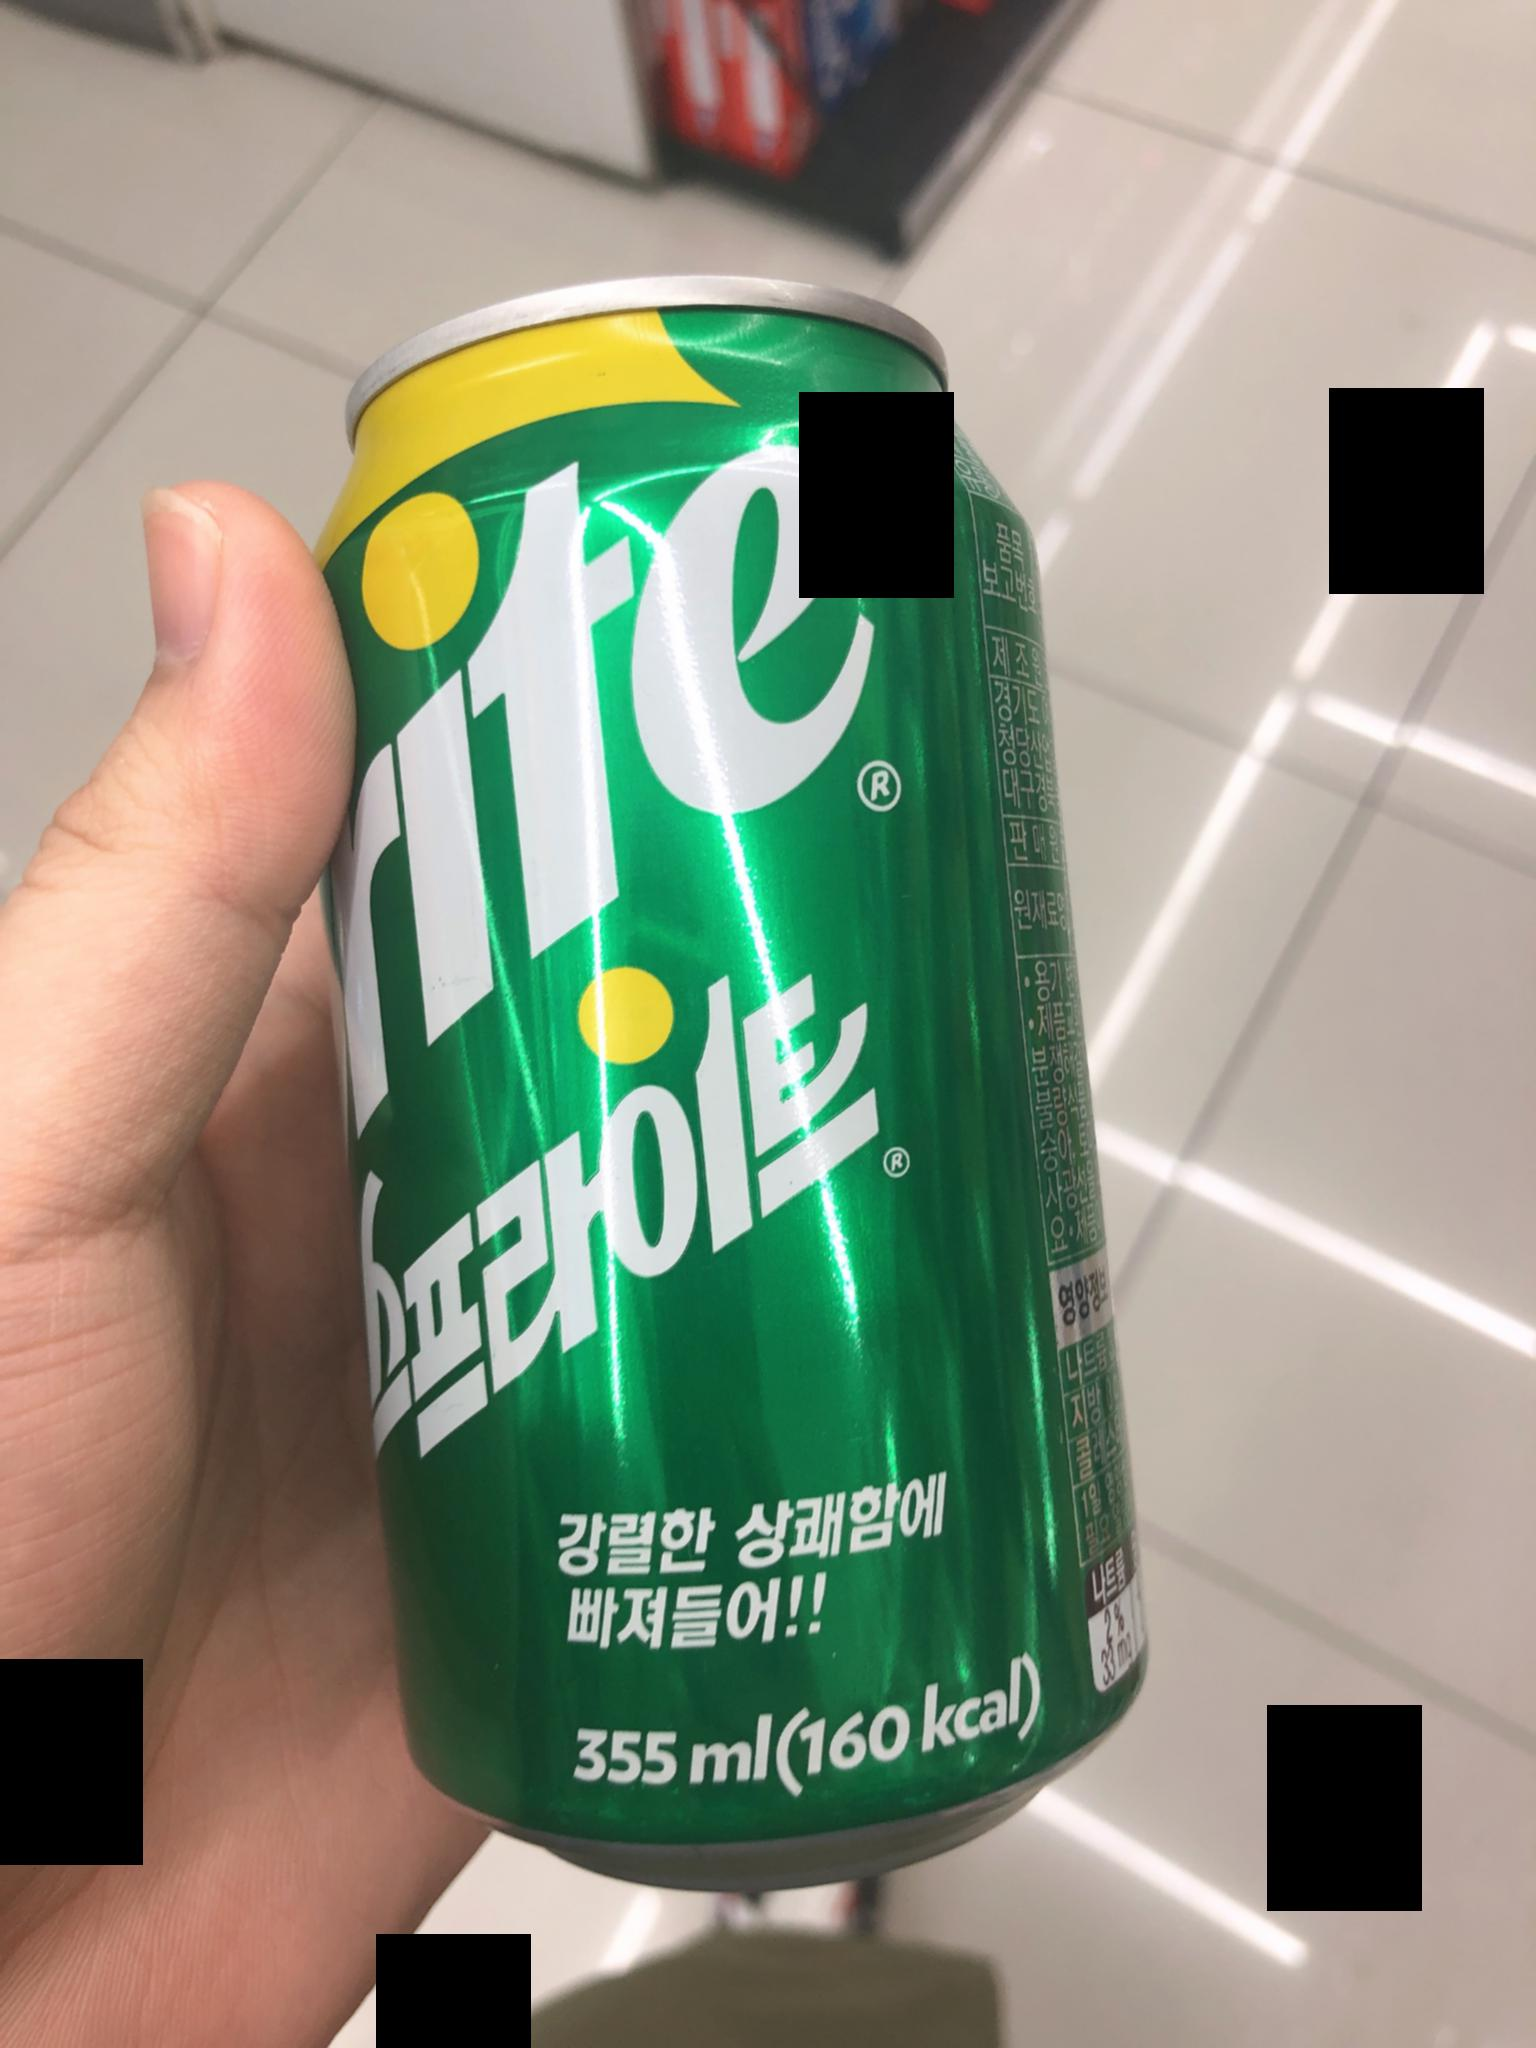sprite: (281, 277, 1262, 1888)
